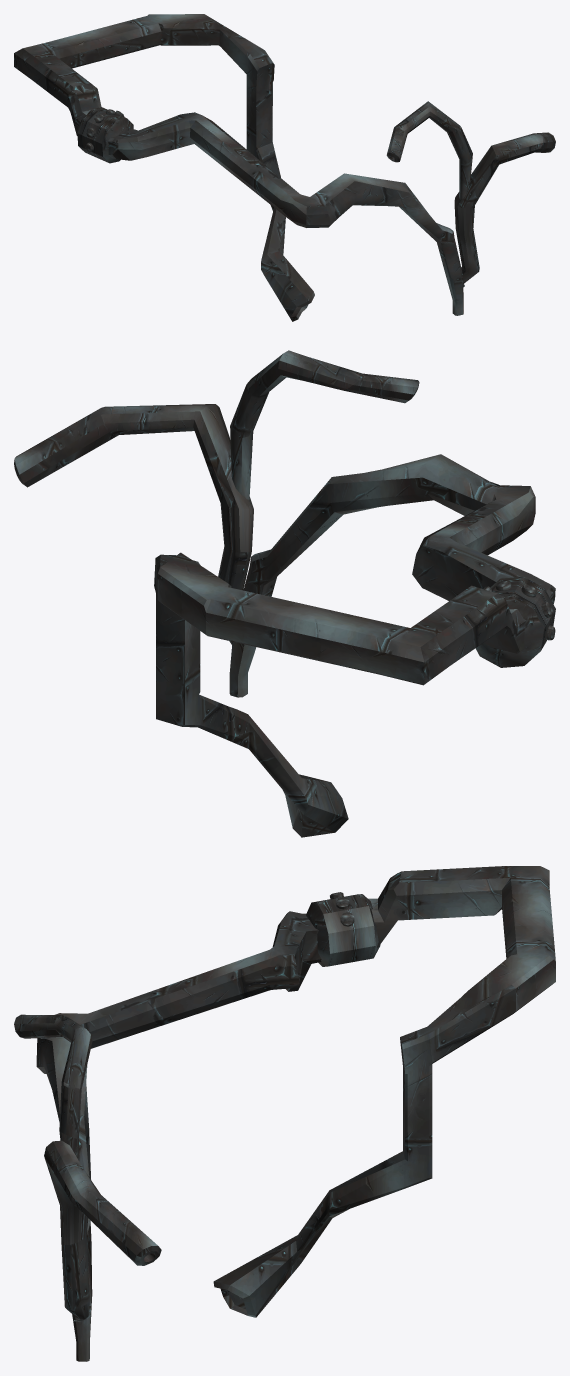
File: Imp_tube.fbx
3 views of the same model, one above another, from view 1: azimuth 30°, elevation 25°; view 2: azimuth 150°, elevation 25°; view 3: azimuth 270°, elevation 25° (orthographic). The views are drawn at different scales.
Visible parts, largest first — view 1: polySurface2, polySurface1, Zepp:pCylinder90, Zepp:pCylinder91, pCylinder107; view 2: polySurface2, polySurface1, Zepp:pCylinder90, Zepp:pCylinder91, pCylinder107; view 3: polySurface2, polySurface1, Zepp:pCylinder90, Zepp:pCylinder91, pCylinder107.
Part boxes in pixels (<box>): polySurface2: <box>14,14,314,321</box>; polySurface1: <box>108,112,463,315</box>; Zepp:pCylinder90: <box>454,132,555,287</box>; Zepp:pCylinder91: <box>386,101,472,199</box>; pCylinder107: <box>77,107,133,163</box>; polySurface2: <box>154,552,526,837</box>; polySurface1: <box>229,454,555,697</box>; Zepp:pCylinder90: <box>14,404,253,645</box>; Zepp:pCylinder91: <box>230,350,419,499</box>; pCylinder107: <box>475,576,555,667</box>; polySurface2: <box>213,866,555,1317</box>; polySurface1: <box>36,911,321,1361</box>; Zepp:pCylinder90: <box>44,1140,161,1321</box>; Zepp:pCylinder91: <box>14,1014,92,1160</box>; pCylinder107: <box>306,894,380,966</box>.
Bounding box in the file's own units: 3445 × 1961 × 2842.
